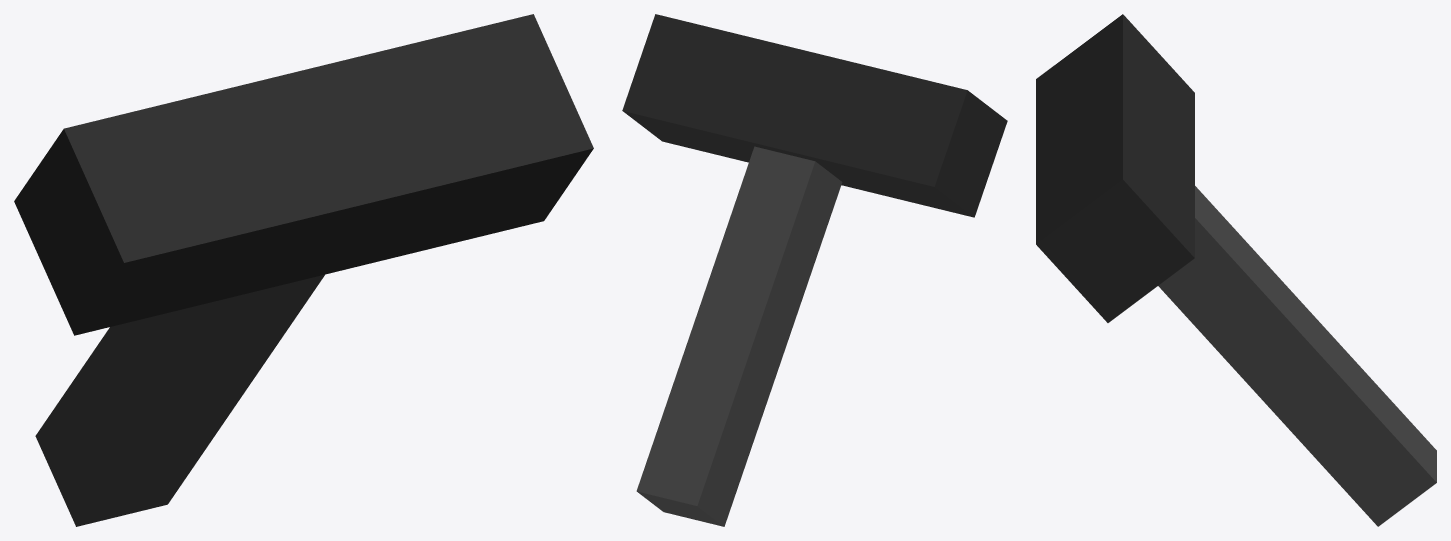
Rendered from WallDecor_01_2.fbx.
3 renders of one model, left to right at view 1: azimuth 30°, elevation 25°; view 2: azimuth 150°, elevation 25°; view 3: azimuth 270°, elevation 25°, orthographic. The views are drawn at different scales.
Parts seen in each view (by area): view 1: WallDecor_01_2; view 2: WallDecor_01_2; view 3: WallDecor_01_2.
Boxes of the visible parts, x1,y1,x2,y2 form: WallDecor_01_2: (14, 14, 593, 526); WallDecor_01_2: (622, 14, 1007, 526); WallDecor_01_2: (1036, 14, 1436, 526).
Size of the model in its own units: 13.9 by 16.23 by 14.24.
